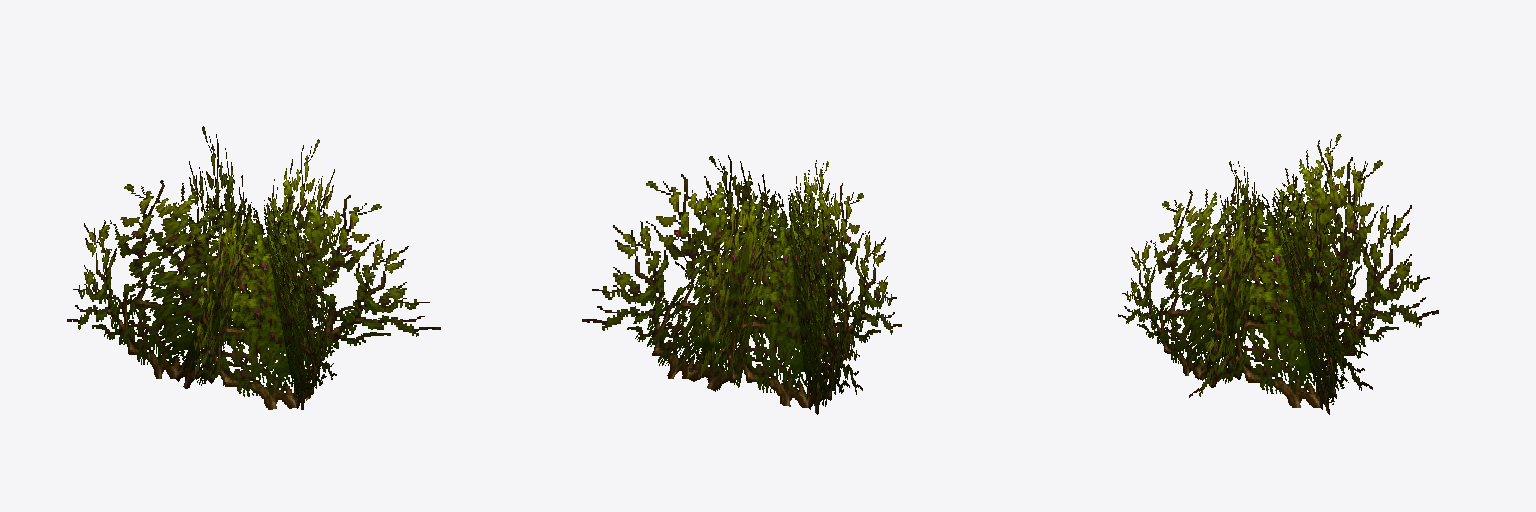
The picture shows the model from 3 angles: view 1: azimuth 30°, elevation 25°; view 2: azimuth 150°, elevation 25°; view 3: azimuth 270°, elevation 25°; orthographic projection.
Parts seen in each view (by area): view 1: object 1; view 2: object 1; view 3: object 1.
Boxes of the visible parts, box(x1,y1,x2,y2) form: object 1: box(67, 126, 440, 409); object 1: box(582, 155, 901, 414); object 1: box(1118, 134, 1438, 414).
Bounding box in the file's own units: 5.73 × 4.66 × 5.66.
1 materials, 1 textured.